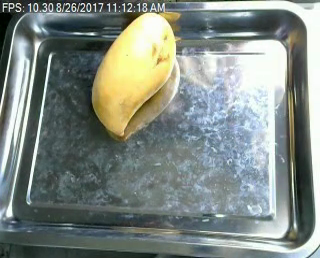Mango: (88, 13, 180, 140)
